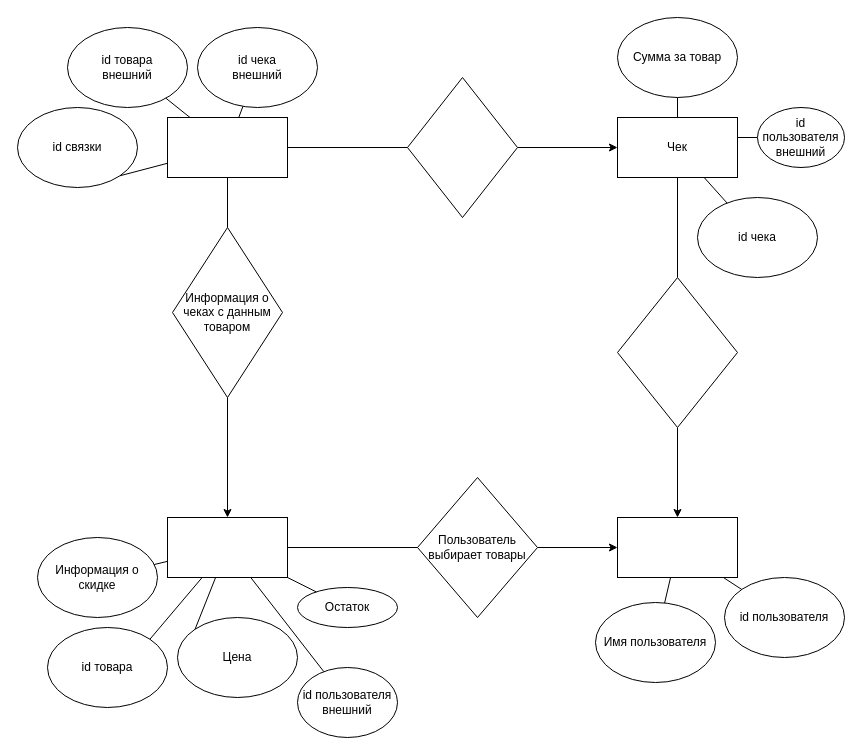
Some shapes in this 862 by 755 pixel diagram are drawn without their labels. The centre of each missing label's shape, as x and y in pixels:
"Информация о товаре из чека" belongs at [462,147].
"Пользователь" belongs at [677,547].
"Пользователь получает чеки" belongs at [677,352].
"Товар" belongs at [227,547].
"Чек-Товар" belongs at [227,147].
